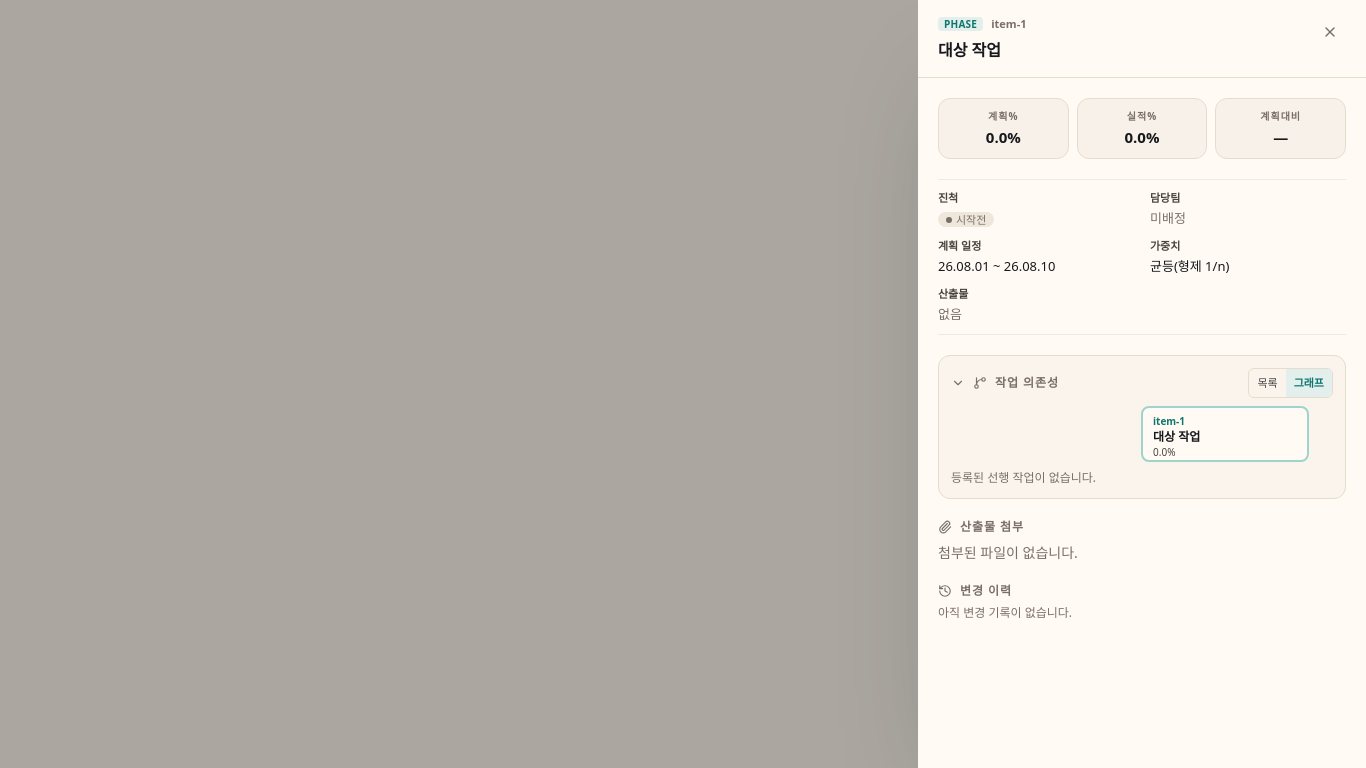
Test: RowDetailPanel — 선행/후속 섹션 › 후속 의존성이 없으면 "등록된 후속 작업이 없습니다." 가 보인다
Step 1. Click the button "목록" → point(1268, 383), box [1249,369,1286,397]
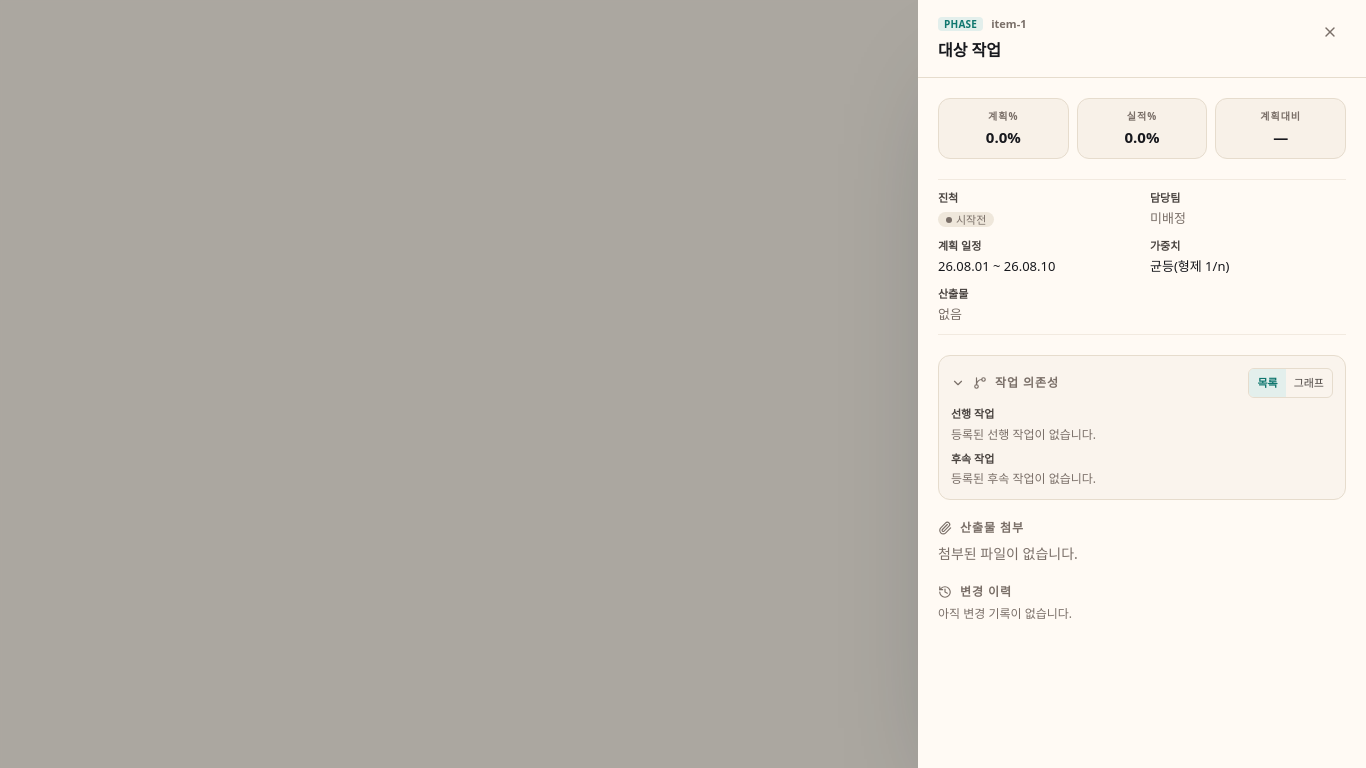
Now the text "등록된 후속 작업이 없습니다." is shown, box [951,470,1096,487]
